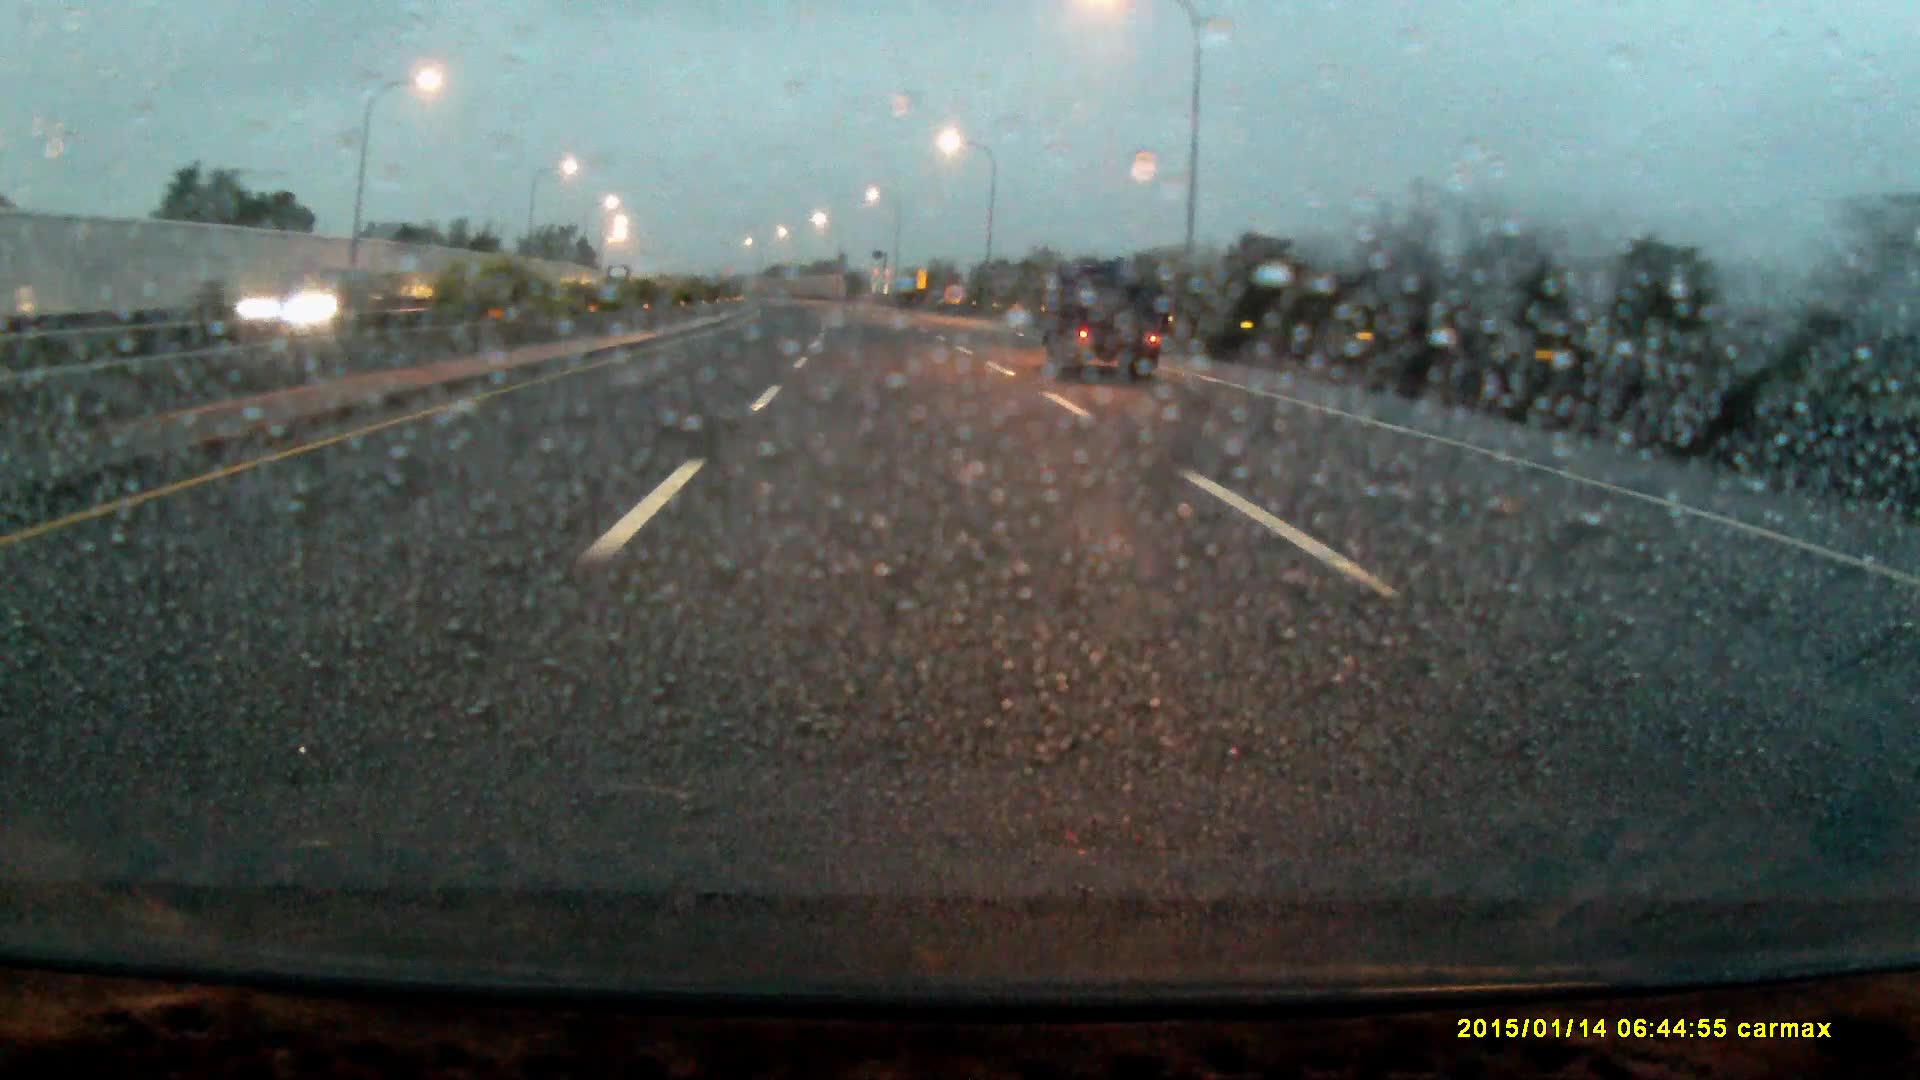vehicle: (1044, 266, 1164, 382), (224, 272, 363, 336), (608, 268, 632, 294)
